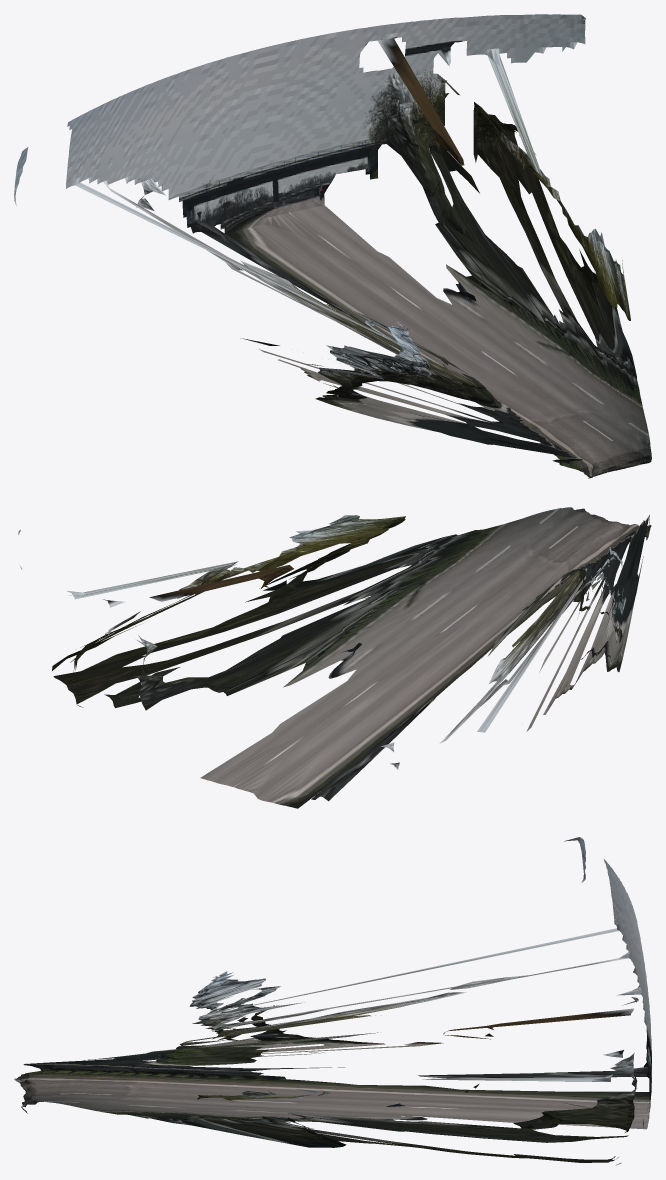
3 views of the same model, one above another, from view 1: azimuth 30°, elevation 25°; view 2: azimuth 150°, elevation 25°; view 3: azimuth 270°, elevation 25° (orthographic). The views are drawn at different scales.
Visible parts, largest first — view 1: defaultobject; view 2: defaultobject; view 3: defaultobject.
Boxes of the visible parts, <box> form: defaultobject: <box>14,14,651,478</box>; defaultobject: <box>18,507,651,808</box>; defaultobject: <box>14,837,651,1165</box>.
Size of the model in its own units: 40.78 by 12.71 by 44.81.
Materials: 1 (1 with a texture image).
